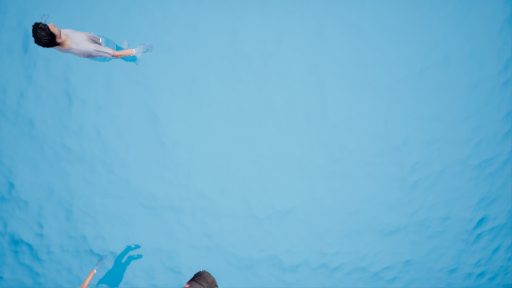person: (30, 12, 150, 70)
